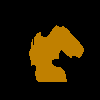maglia: (29, 24, 84, 82)
